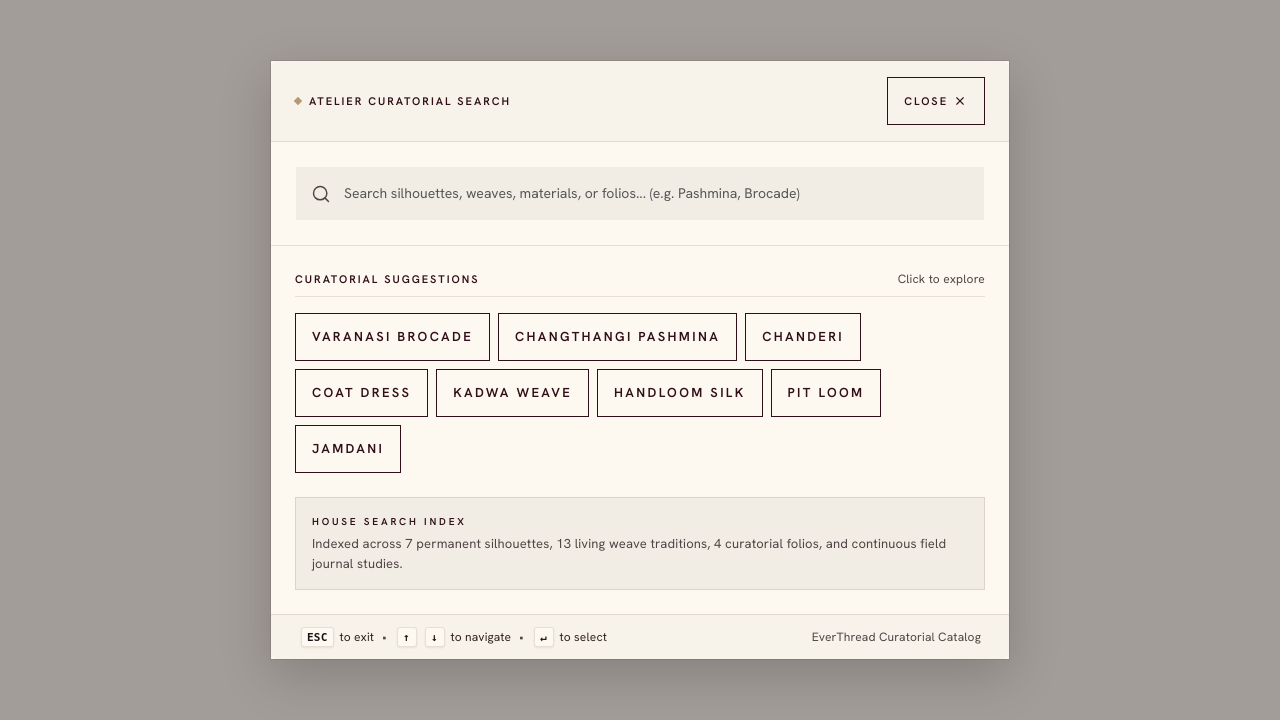
Test: Atelier Curatorial Search Modal Suite › filters and displays product results when matching product title or weave
This screenshot has width=1280, height=720.
Replace the text in the field with test id "search-input" with "Coat-Dress" at (640, 194), box left=295, top=166, right=985, bottom=221
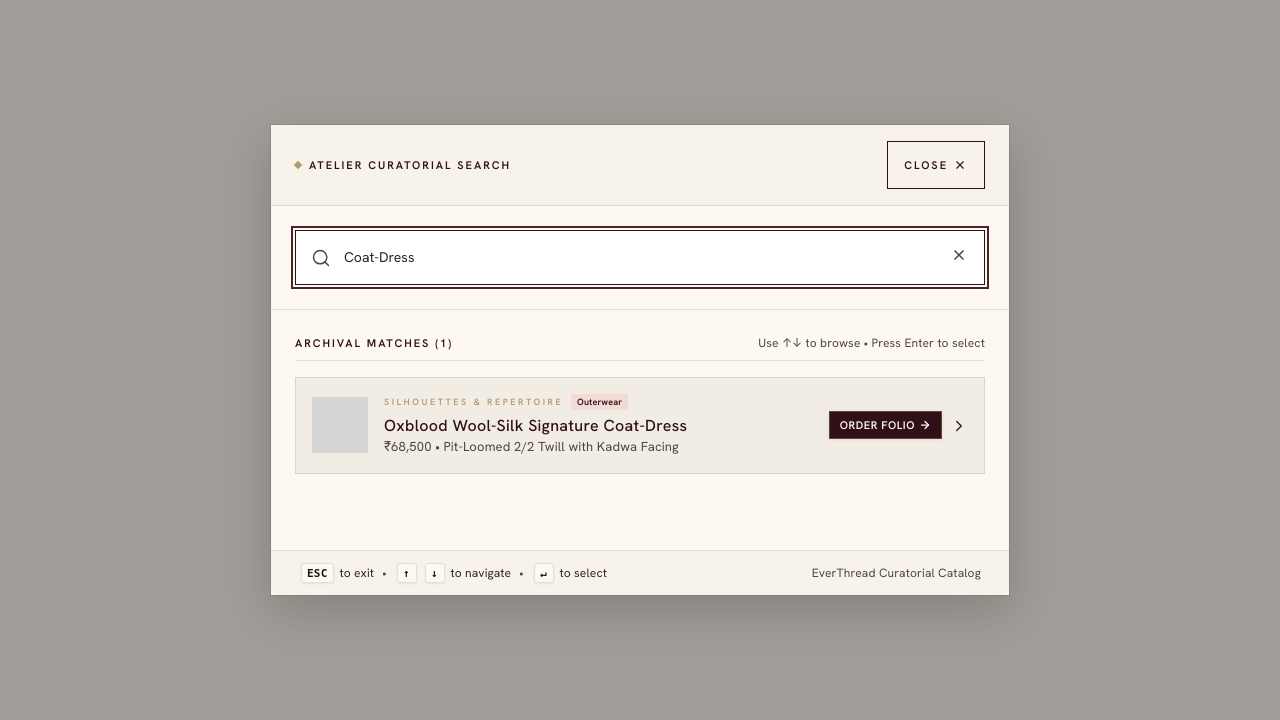
Expected: the text "Archival Matches (1)" is shown, left=295, top=335, right=453, bottom=351
Expected: the heading "Oxblood Wool-Silk Signature Coat-Dress" is shown, left=384, top=415, right=687, bottom=436
